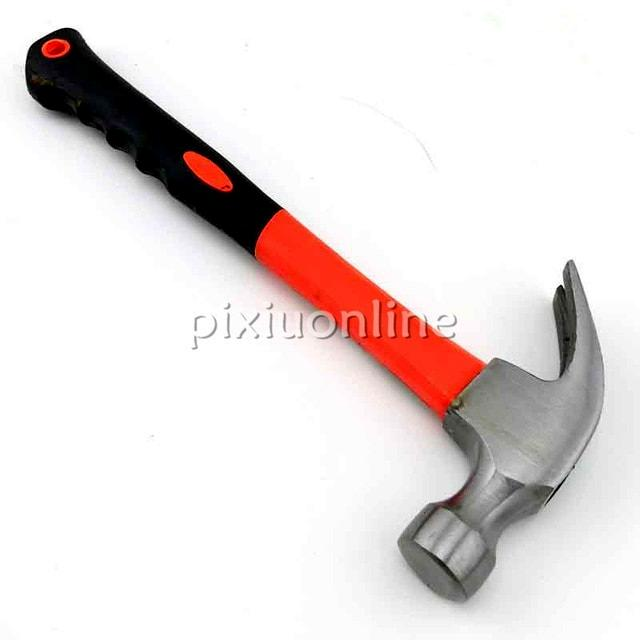hammer: (19, 19, 617, 612)
